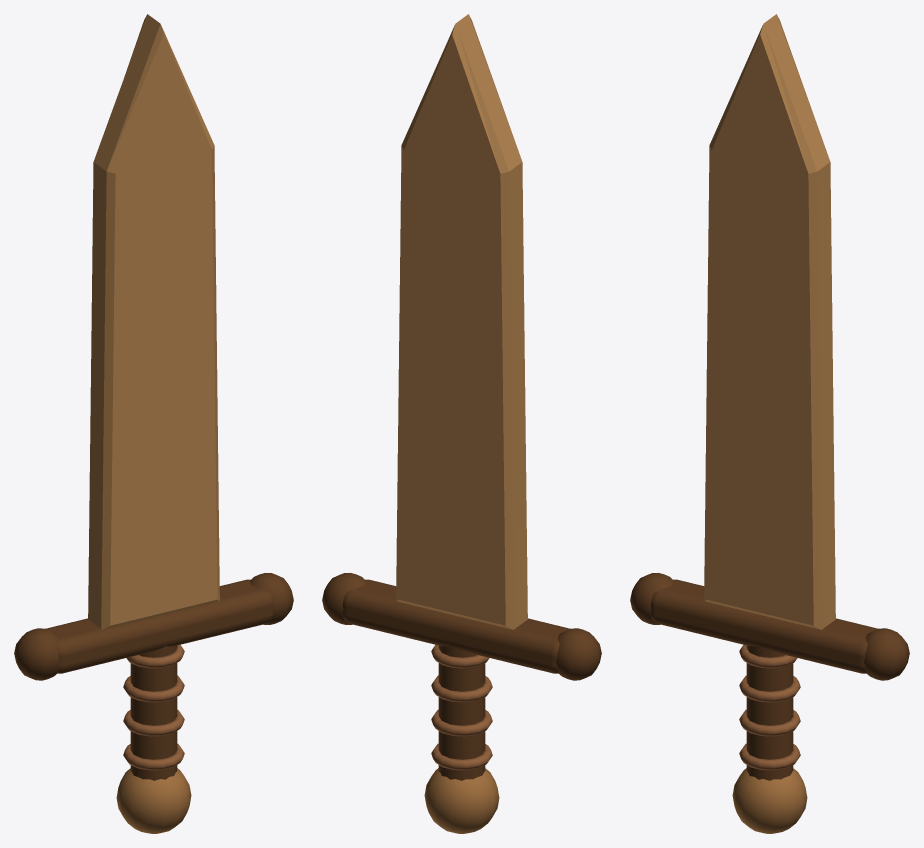
File: sword_wooden.glb
3 renders of one model, left to right at view 1: azimuth 30°, elevation 25°; view 2: azimuth 150°, elevation 25°; view 3: azimuth 330°, elevation 25°, orthographic.
Visible parts, largest first — view 1: Blade, Crossbar, Grip, Pommel, GuardCapL, GuardCapR, GripWrap2, GripWrap1, GripWrap0, GripWrap3; view 2: Blade, Crossbar, Grip, Pommel, GuardCapL, GuardCapR, GripWrap2, GripWrap1, GripWrap0, GripWrap3; view 3: Blade, Crossbar, Grip, Pommel, GuardCapR, GuardCapL, GripWrap2, GripWrap1, GripWrap0, GripWrap3.
Part boxes in pixels (x1,y1,x2,y2): Blade: (88,14,219,629); Crossbar: (45,579,273,673); Grip: (130,645,177,780); Pommel: (116,768,191,833); GuardCapL: (14,628,59,680); GuardCapR: (249,573,293,624); GripWrap2: (123,675,184,702); GripWrap1: (123,709,184,736); GripWrap0: (123,743,184,770); GripWrap3: (126,644,184,668); Blade: (396,14,527,629); Crossbar: (342,579,570,673); Grip: (438,645,485,780); Pommel: (424,768,499,833); GuardCapL: (556,628,601,680); GuardCapR: (322,573,366,624); GripWrap2: (431,675,492,702); GripWrap1: (431,709,492,736); GripWrap0: (431,743,492,770); GripWrap3: (431,644,489,668); Blade: (704,14,835,629); Crossbar: (650,579,878,673); Grip: (746,645,793,780); Pommel: (732,768,807,833); GuardCapR: (864,628,909,680); GuardCapL: (630,573,674,624); GripWrap2: (739,675,800,702); GripWrap1: (739,709,800,736); GripWrap0: (739,743,800,770); GripWrap3: (739,644,797,668).
Size of the model in its own units: 0.336 by 0.9549 by 0.078.
